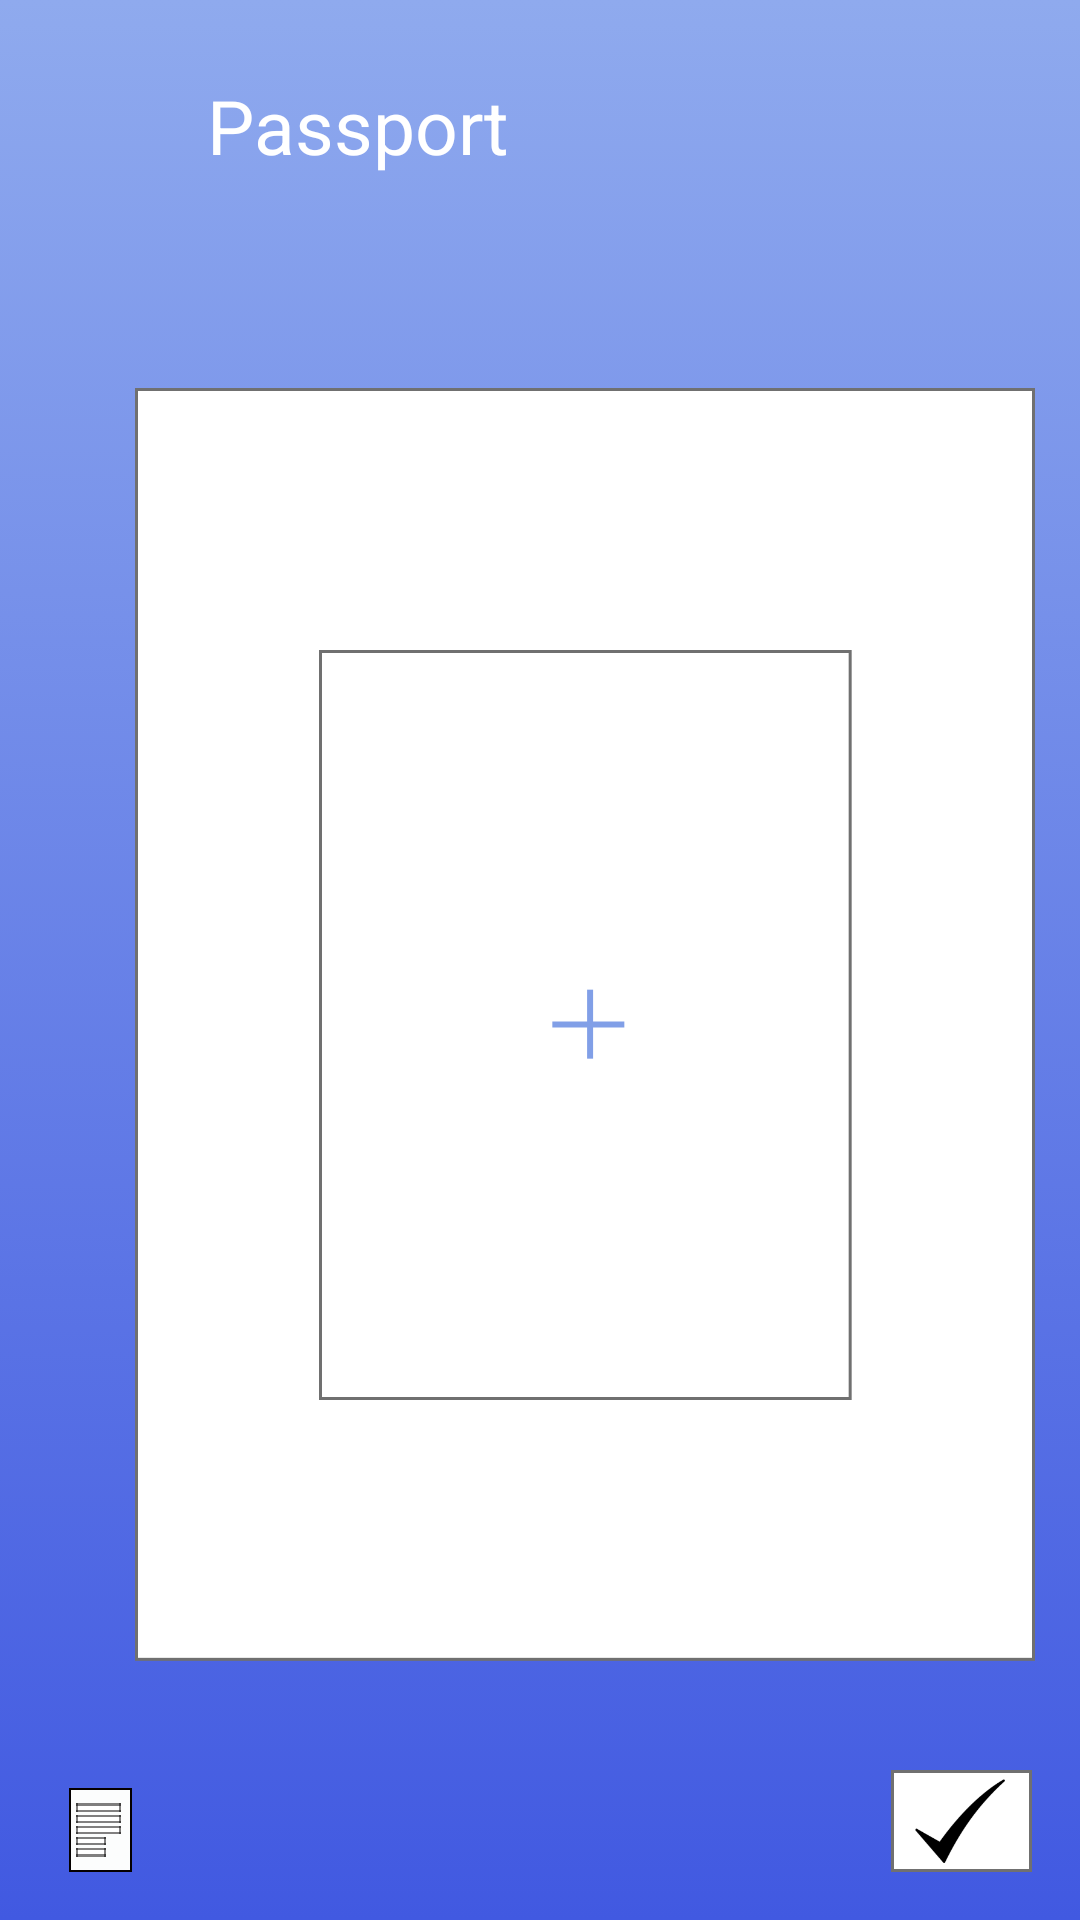

Point at icon controls on the screen. Image size 1080 x 1920, points as point (x, y).
docs: point (100, 1830)
